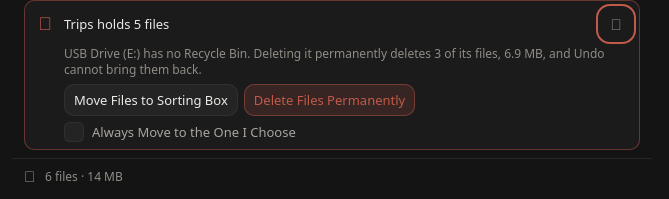
Test: a folder with files on two drives counts those gone permanently apart, and Undo is offered
The image size is (669, 199).
Step 1. Click the button "Delete Files Permanently" → (330, 100), box [244,84,415,116]
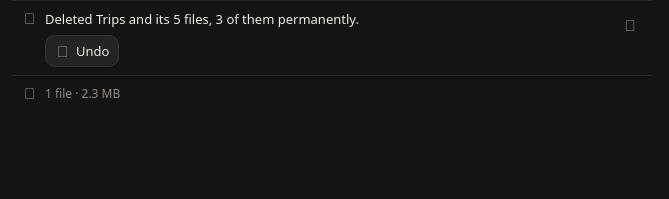
Result: the text "Deleted Trips and its 5 files, 3 of them permanently." is shown at [45,9,359,29]
Result: the button "Undo" is shown at [45,35,119,67]
